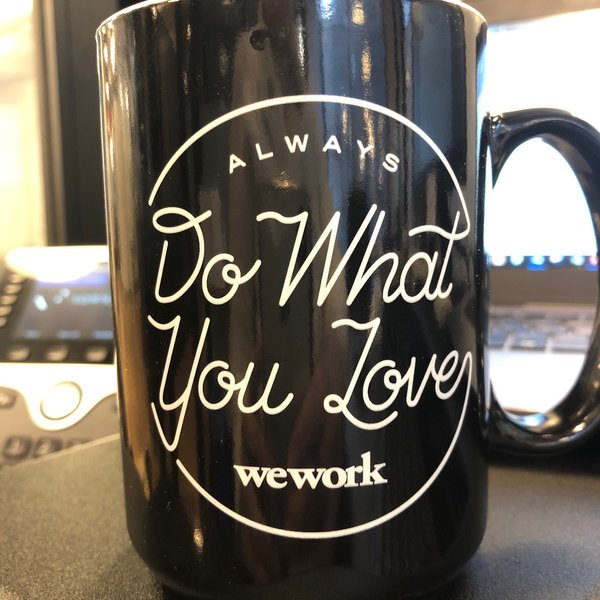wework: (228, 448, 392, 492)
